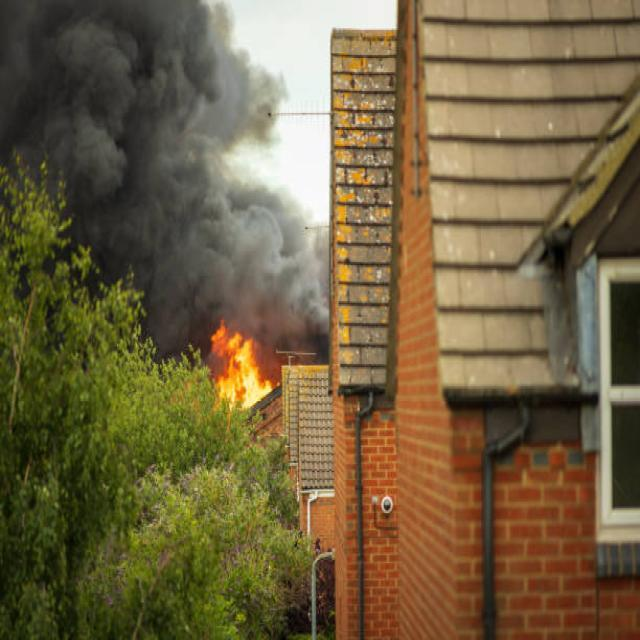Fire: (214, 328, 272, 406)
Smoke: (9, 0, 288, 179), (86, 181, 332, 314)
